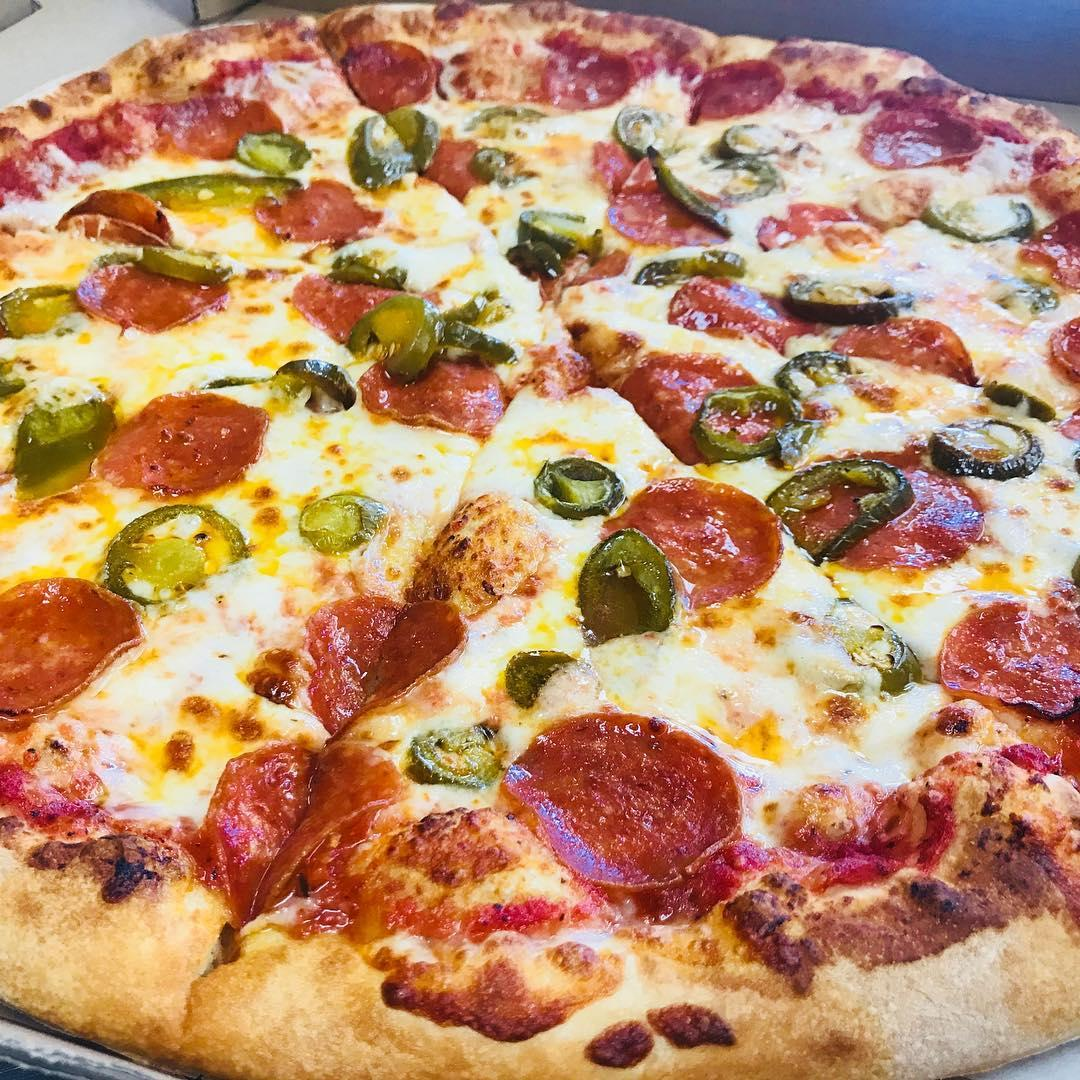Pepperoni: (496, 705, 744, 901), (188, 725, 411, 937), (760, 443, 990, 581), (289, 588, 471, 740), (0, 568, 150, 731), (623, 474, 789, 619), (932, 579, 1080, 723), (90, 389, 272, 504), (606, 344, 775, 464), (829, 309, 988, 397), (66, 252, 229, 336), (358, 356, 513, 443), (659, 272, 817, 357), (281, 261, 429, 346), (135, 88, 280, 162), (47, 186, 183, 260), (250, 173, 388, 244), (855, 99, 984, 170), (602, 183, 735, 244), (534, 37, 642, 110), (686, 53, 785, 125), (403, 129, 497, 202), (338, 41, 434, 108), (591, 132, 664, 201), (1028, 201, 1080, 294), (1044, 311, 1080, 390)
Peppers: (754, 450, 921, 571), (99, 493, 251, 607), (681, 375, 822, 482), (571, 523, 680, 650), (811, 592, 930, 693), (123, 160, 304, 225), (333, 100, 453, 197), (515, 448, 642, 534), (487, 196, 620, 278), (11, 393, 123, 489), (282, 481, 398, 566), (341, 293, 447, 382), (924, 409, 1048, 485), (636, 149, 728, 243), (406, 715, 513, 794), (775, 267, 924, 322), (243, 356, 361, 422), (0, 265, 87, 350), (494, 641, 582, 725), (903, 197, 1036, 251), (618, 243, 757, 294), (704, 125, 791, 205), (767, 338, 858, 413), (437, 283, 523, 362), (455, 86, 565, 144), (118, 230, 227, 283), (972, 374, 1074, 430), (968, 270, 1063, 327), (602, 89, 680, 157), (460, 139, 544, 196), (330, 236, 413, 293), (228, 126, 312, 176), (0, 345, 40, 403)
Pizza: (0, 0, 1080, 1080)
